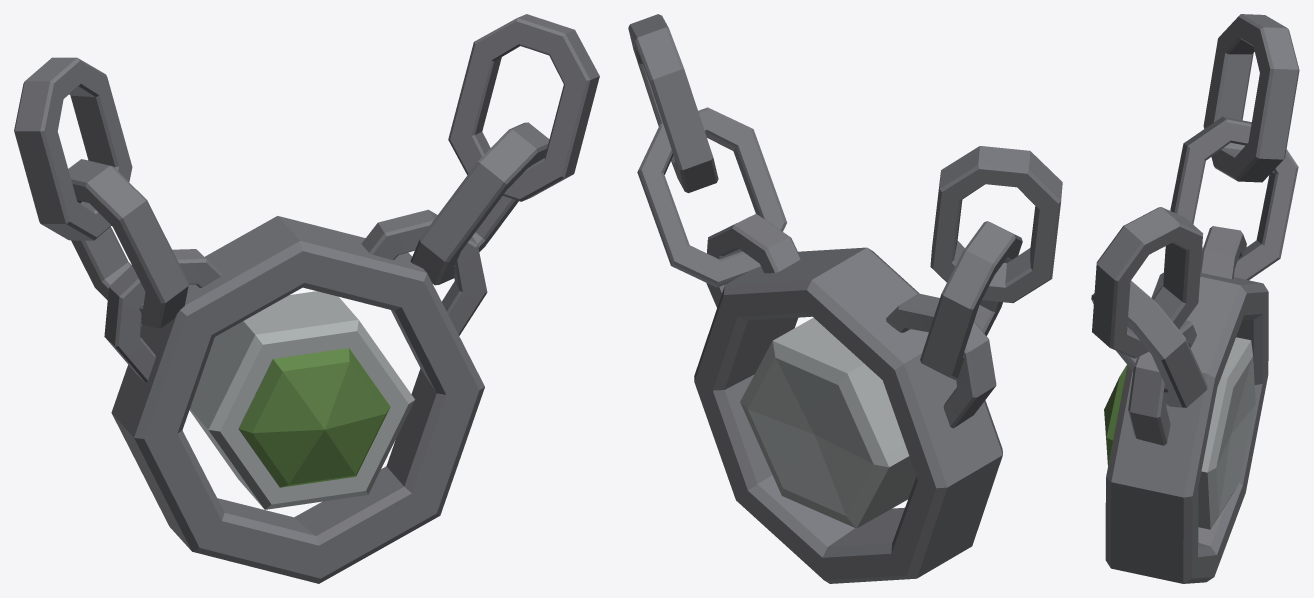
The model's file is amuletScare.fbx.
The picture shows the model from 3 angles, left to right: view 1: azimuth 30°, elevation 25°; view 2: azimuth 150°, elevation 25°; view 3: azimuth 270°, elevation 25°; orthographic projection. The views are drawn at different scales.
Parts seen in each view (by area): view 1: amuletScare; view 2: amuletScare; view 3: amuletScare.
Boxes of the visible parts, <box> form: amuletScare: <box>14,14,599,583</box>; amuletScare: <box>628,14,1062,583</box>; amuletScare: <box>1091,14,1299,583</box>.
Bounding box in the file's own units: 1.96 × 1.91 × 0.7608.
